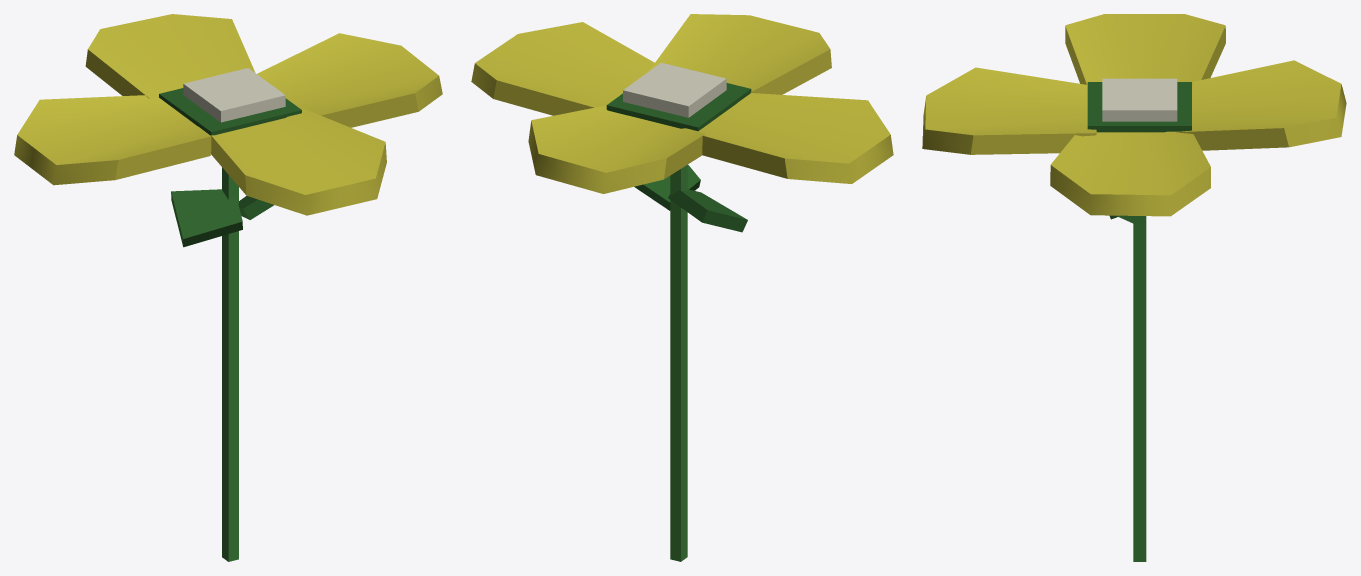
Rendered from Flower04.fbx.
The picture shows the model from 3 angles, left to right: view 1: azimuth 30°, elevation 25°; view 2: azimuth 150°, elevation 25°; view 3: azimuth 270°, elevation 25°; orthographic projection.
Parts seen in each view (by area): view 1: YellowFlower; view 2: YellowFlower; view 3: YellowFlower.
Boxes of the visible parts, x1,y1,x2,y2 form: YellowFlower: [14, 14, 442, 561]; YellowFlower: [471, 14, 893, 561]; YellowFlower: [922, 14, 1346, 561].
Size of the model in its own units: 0.1548 by 0.1801 by 0.1481.
